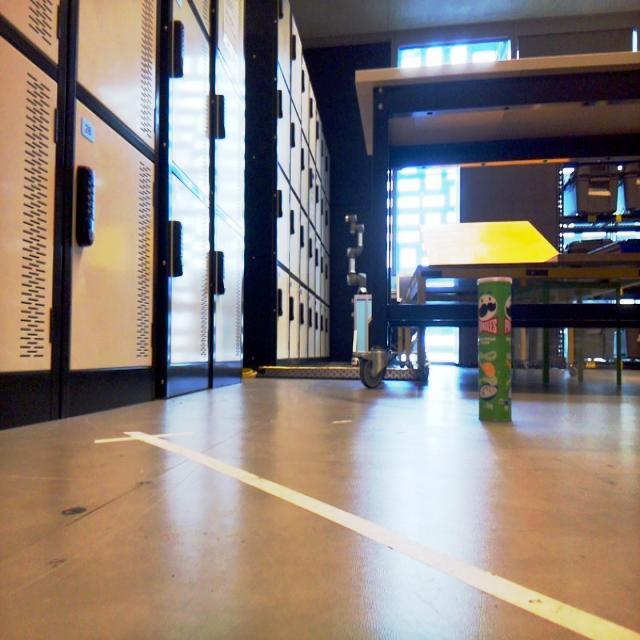greenpringles: (458, 266, 527, 429)
